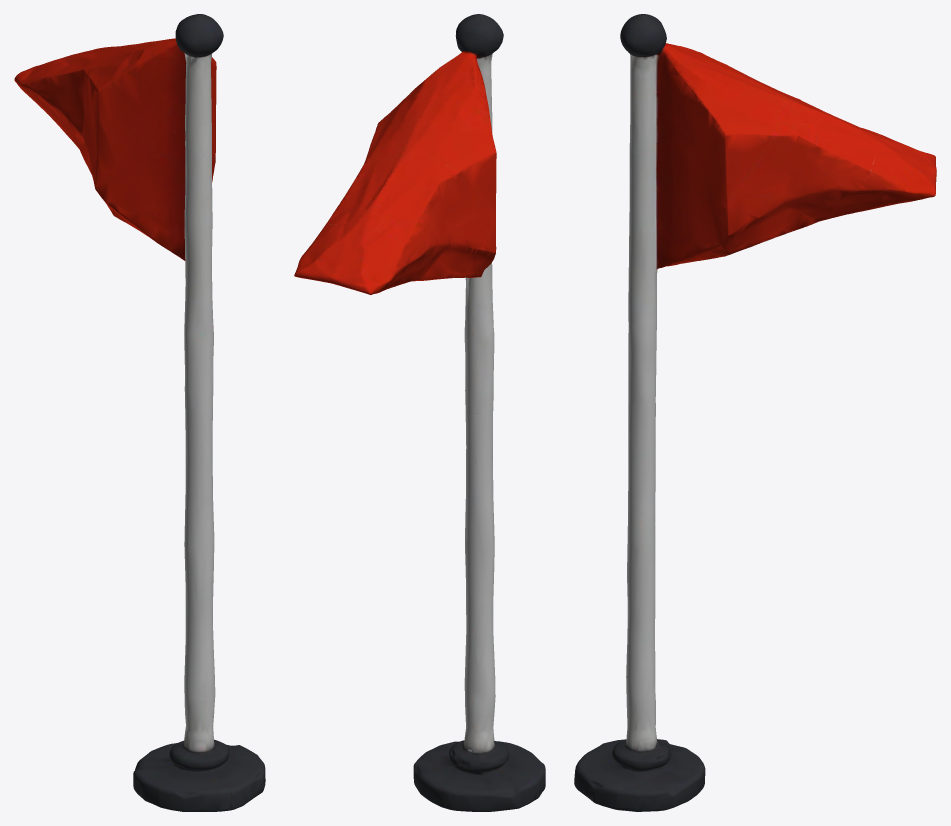
File: flag.glb
3 views of the same model, side by side, from view 1: azimuth 30°, elevation 25°; view 2: azimuth 150°, elevation 25°; view 3: azimuth 270°, elevation 25° (orthographic).
Parts seen in each view (by area): view 1: tripo_node_ff0aa36f-15f6-4693-821d-c2e3e9365cab; view 2: tripo_node_ff0aa36f-15f6-4693-821d-c2e3e9365cab; view 3: tripo_node_ff0aa36f-15f6-4693-821d-c2e3e9365cab.
Part boxes in pixels (x1,y1,x2,y2): tripo_node_ff0aa36f-15f6-4693-821d-c2e3e9365cab: [14, 14, 265, 811]; tripo_node_ff0aa36f-15f6-4693-821d-c2e3e9365cab: [294, 14, 545, 811]; tripo_node_ff0aa36f-15f6-4693-821d-c2e3e9365cab: [574, 14, 936, 811].
Bounding box in the file's own units: 0.163 × 0.9999 × 0.4261.
1 material, 1 textured.
